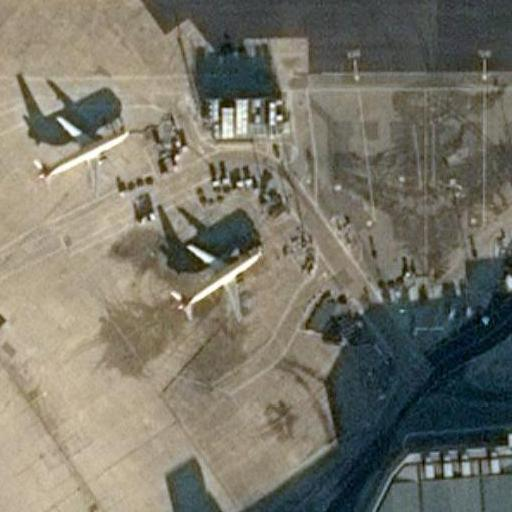Aircraft: (162, 235, 264, 323), (29, 110, 132, 193)
